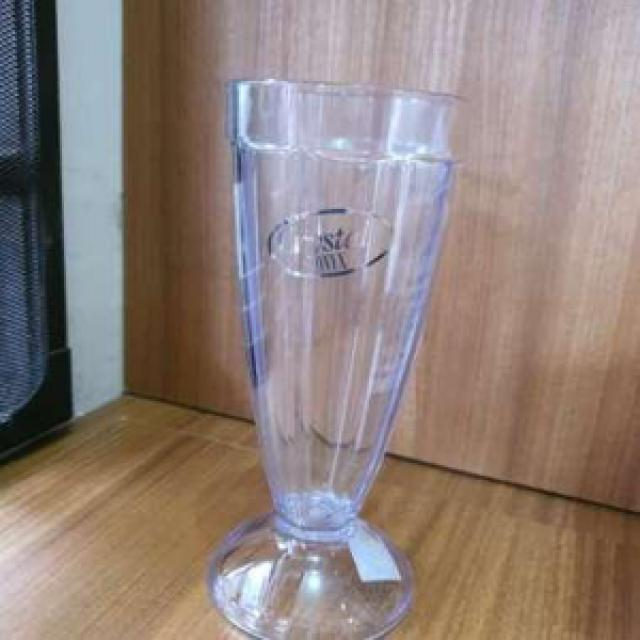plastic cup: (187, 62, 473, 636)
